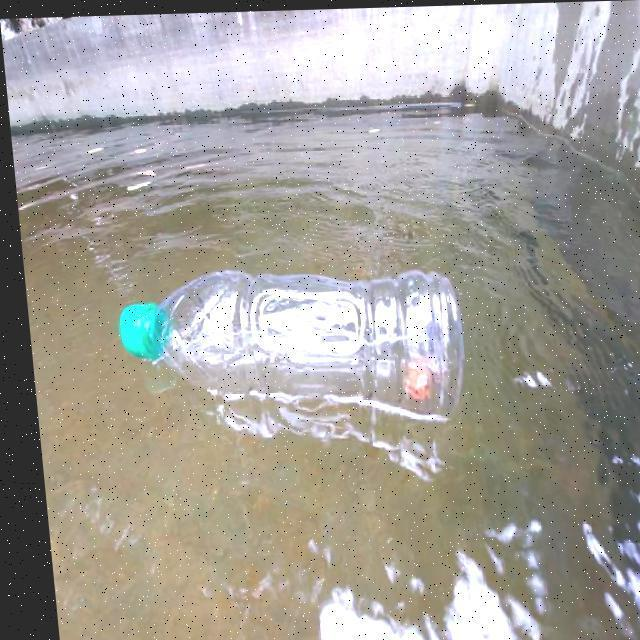Bottle: (114, 261, 472, 432)
